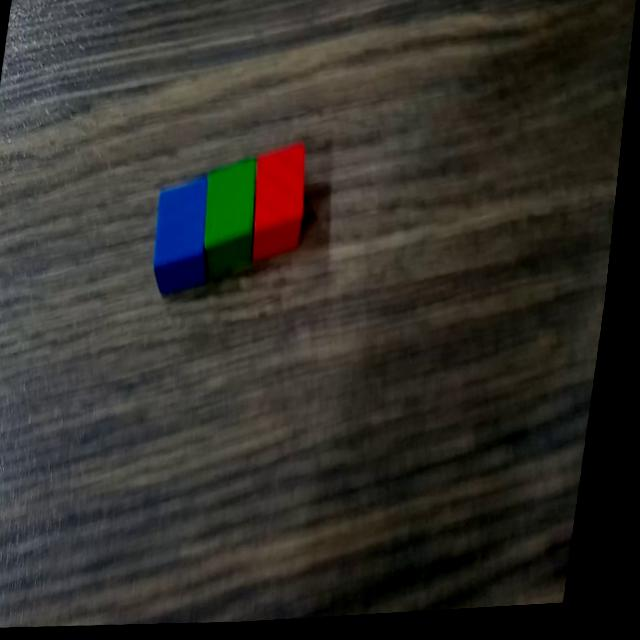cube: (198, 155, 271, 285), (150, 173, 221, 302), (249, 141, 318, 266)
